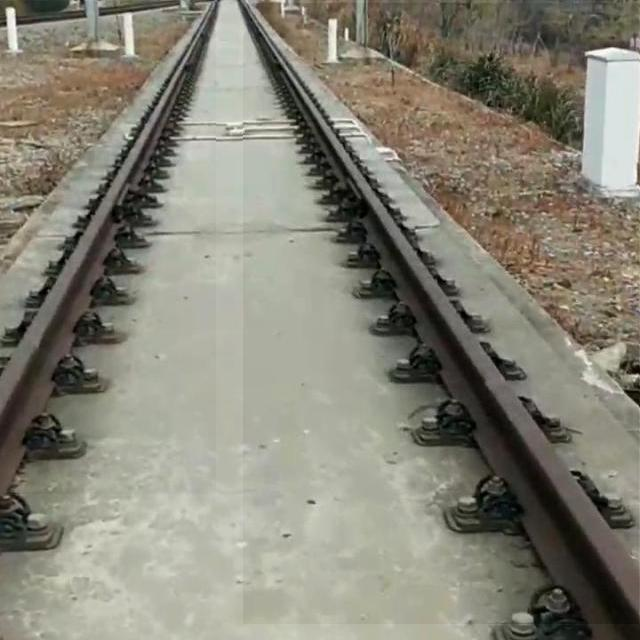rail: (244, 4, 640, 625), (2, 4, 217, 495)
